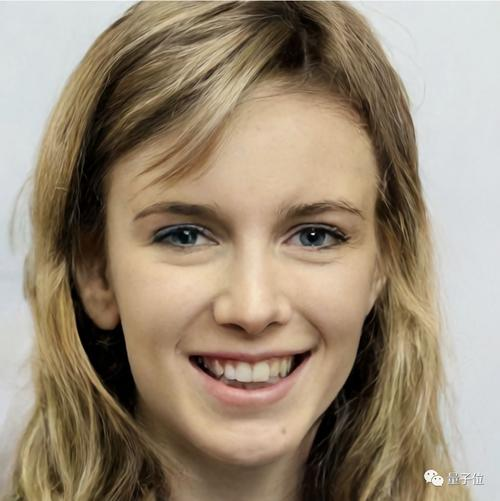no_mask: (95, 70, 399, 463)
